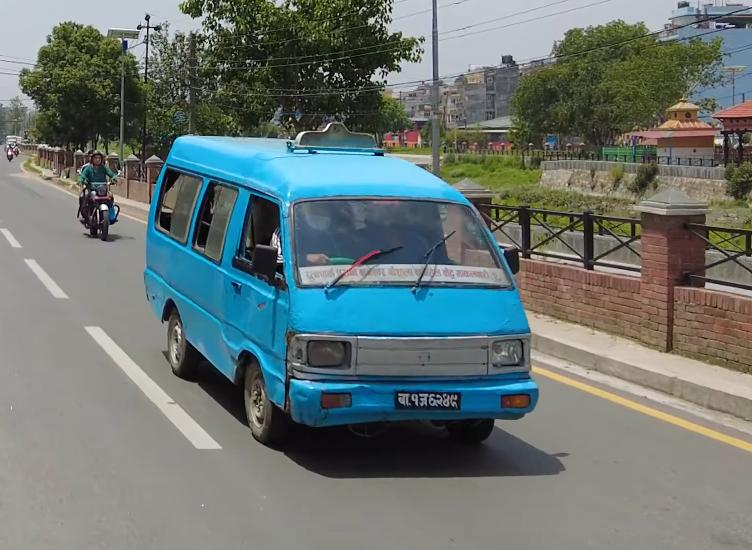bike: (75, 167, 123, 242)
van: (141, 115, 553, 459)
